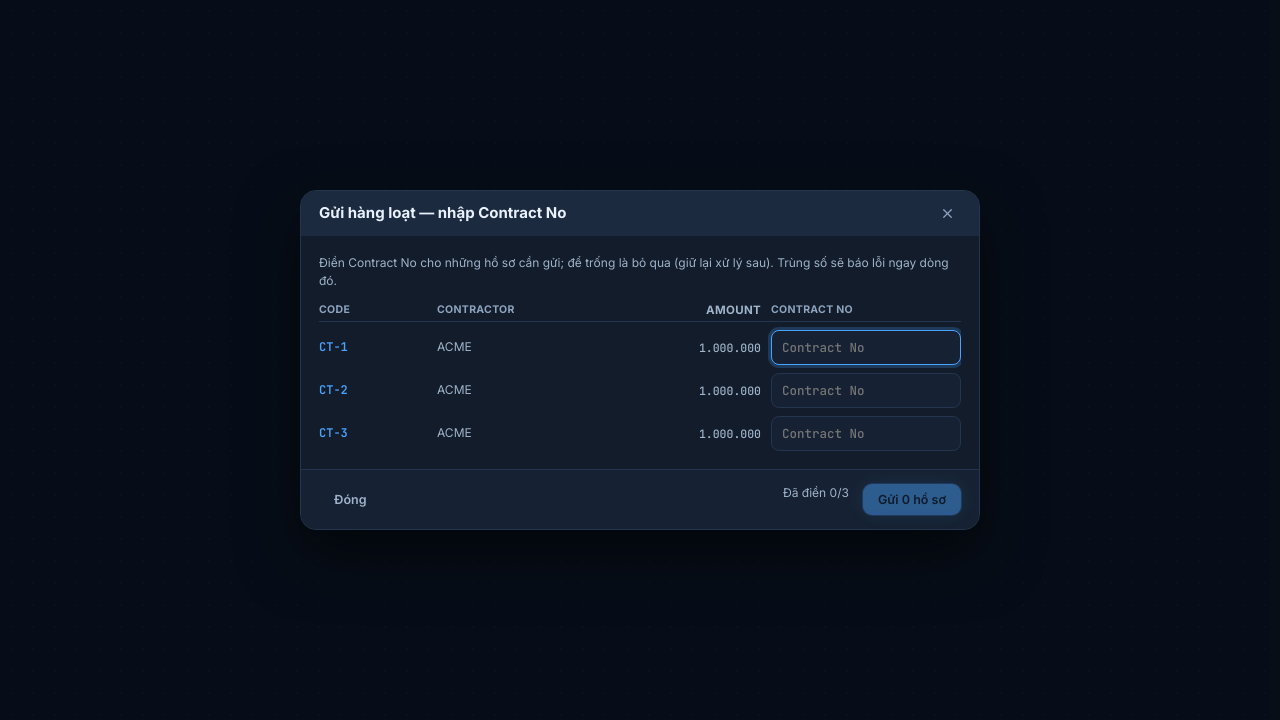
Test: BatchSendAccountingModal — enter many numbers at once › blocks the whole batch when a number is already taken (pre-flight), sending nothing
Step 1. Type "26-CC-1" into the field with placeholder "Contract No" in the row of "CT-1" → (866, 347), box [771,330,961,365]
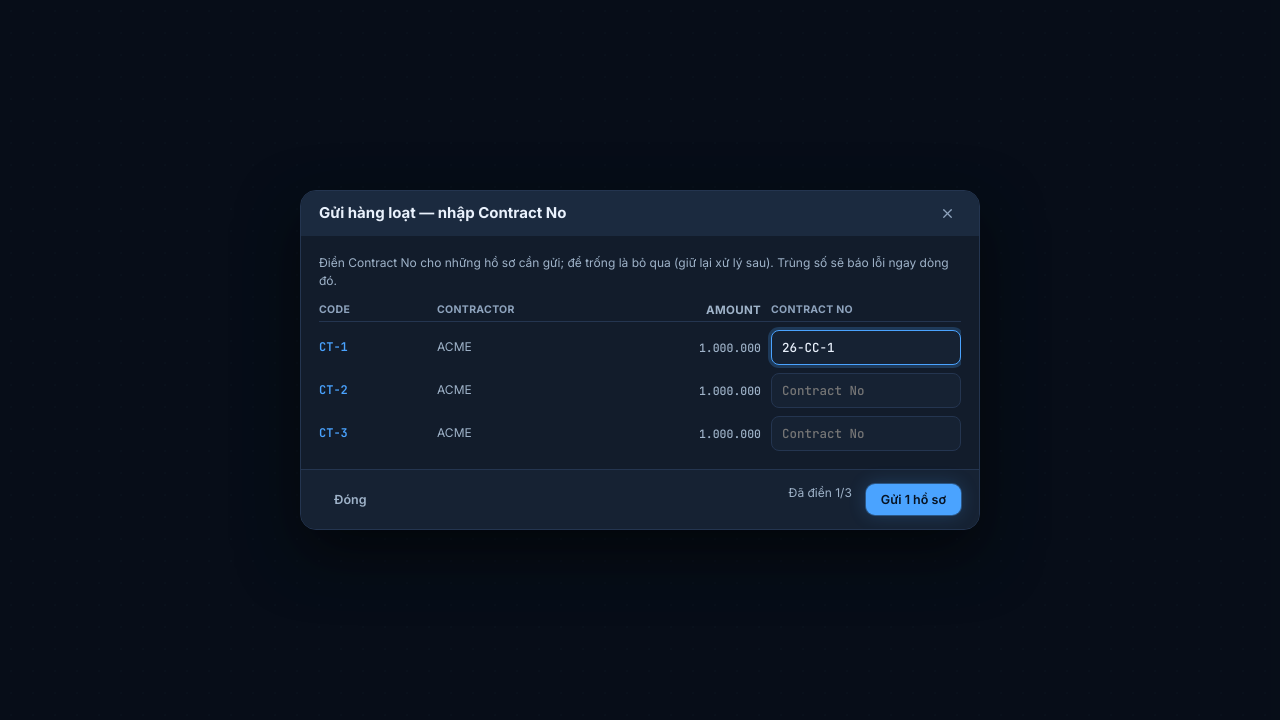
Step 2. Type "26-CC-3" into the field with placeholder "Contract No" in the row of "CT-3" → (866, 433), box [771,416,961,451]
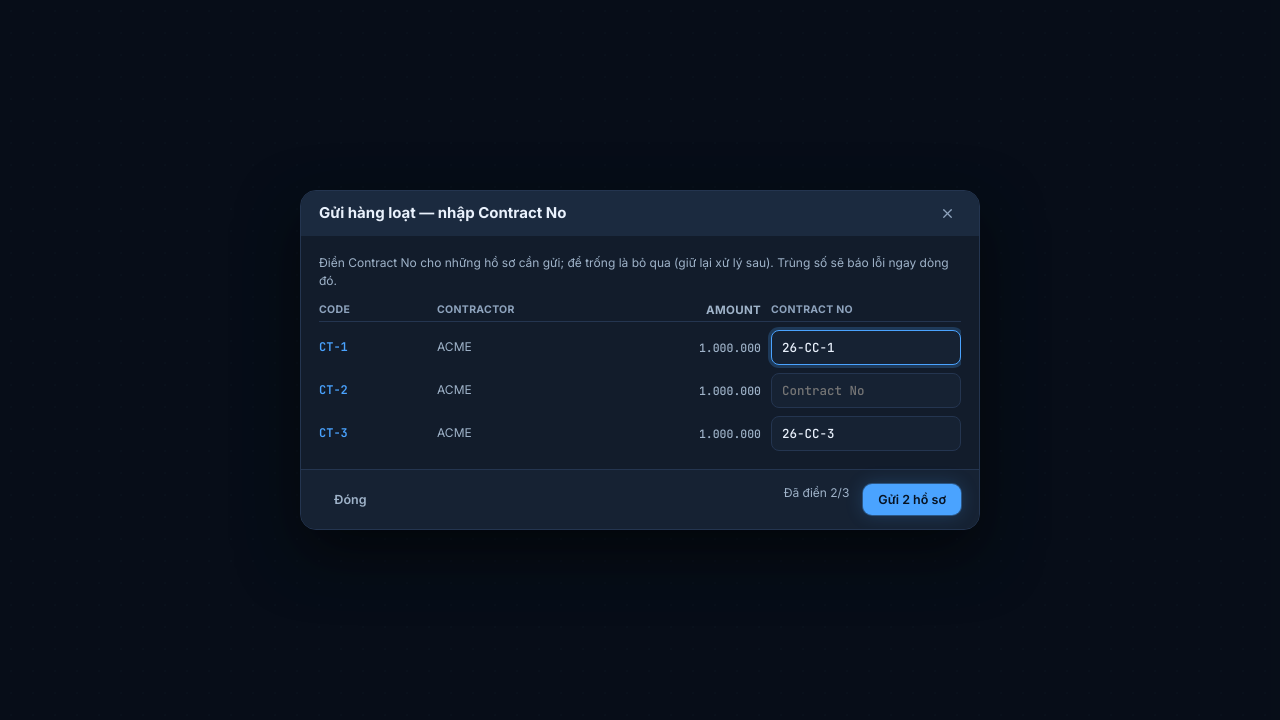
Step 3. Click the button "Gửi 2 hồ sơ" → (912, 499), box [863,484,961,515]
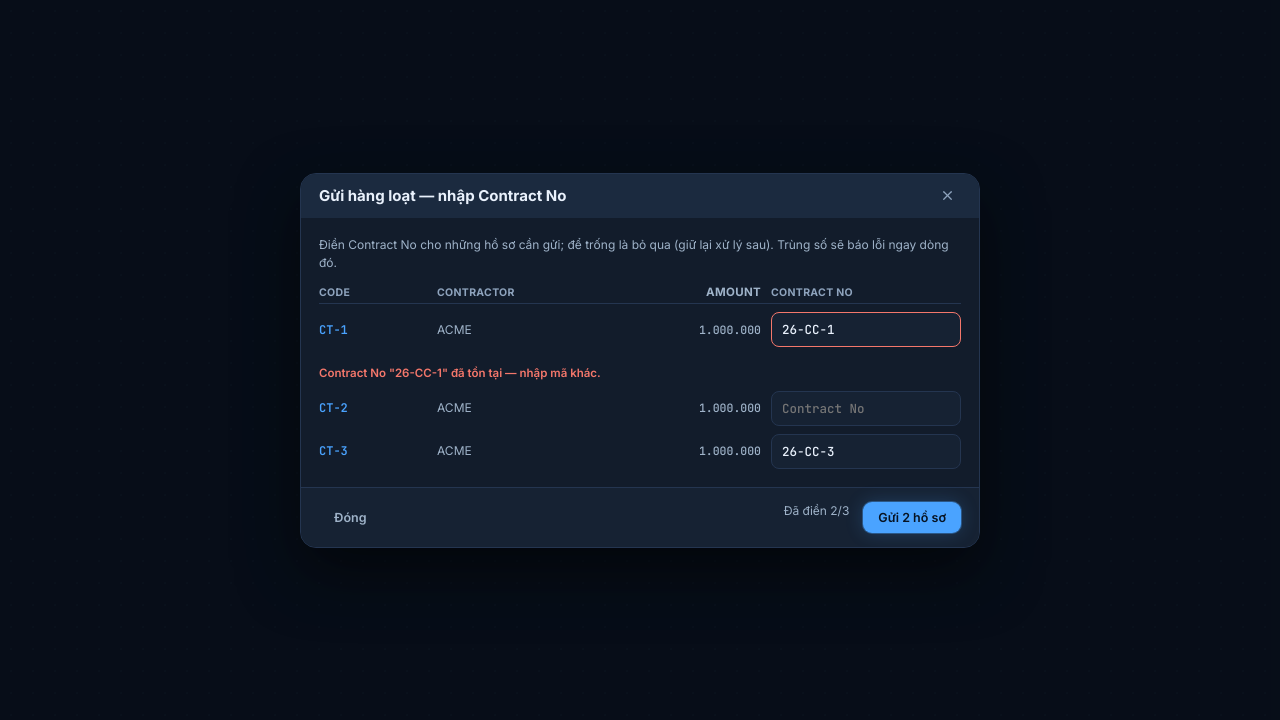
Expected: the message "Contract No \"26-CC-1\" đã tồn tại — nhập mã khác." is shown, [319,366,601,380]
